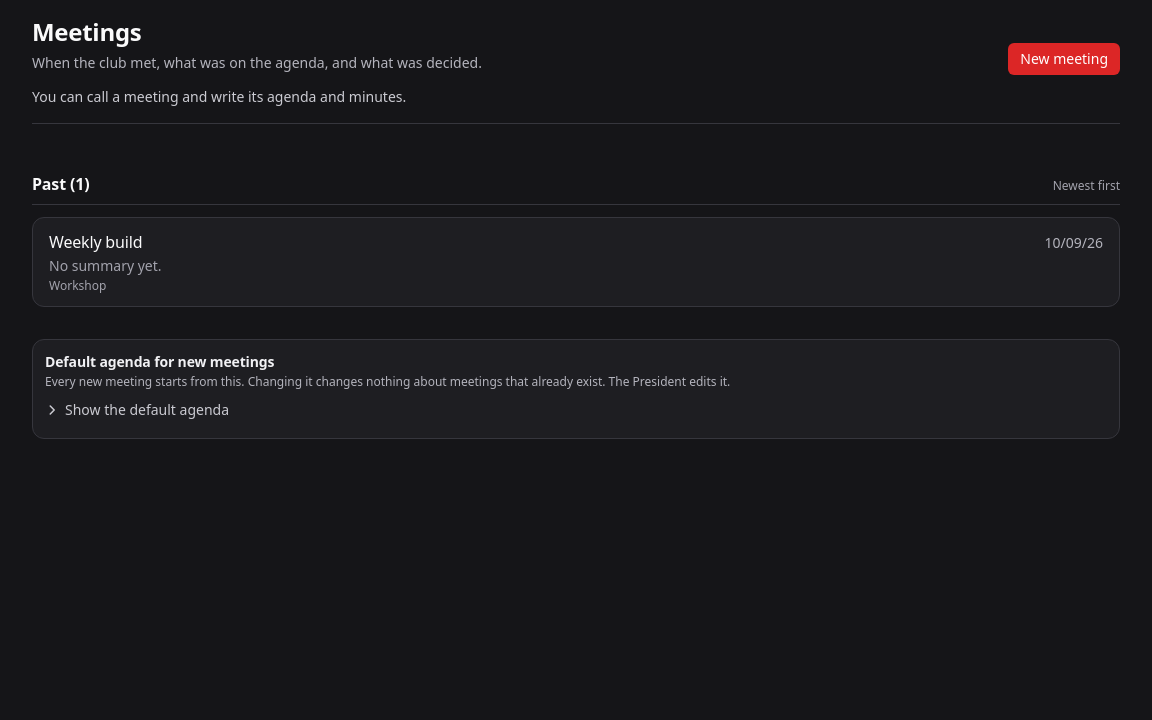
it: calling and editing a meeting › lists who did not come, and taking someone off the list saves them as having come
Later steps or results of the test are not shown.
Click the button "Weekly build" at (96, 242), box x1=49 y1=230 x2=142 y2=254
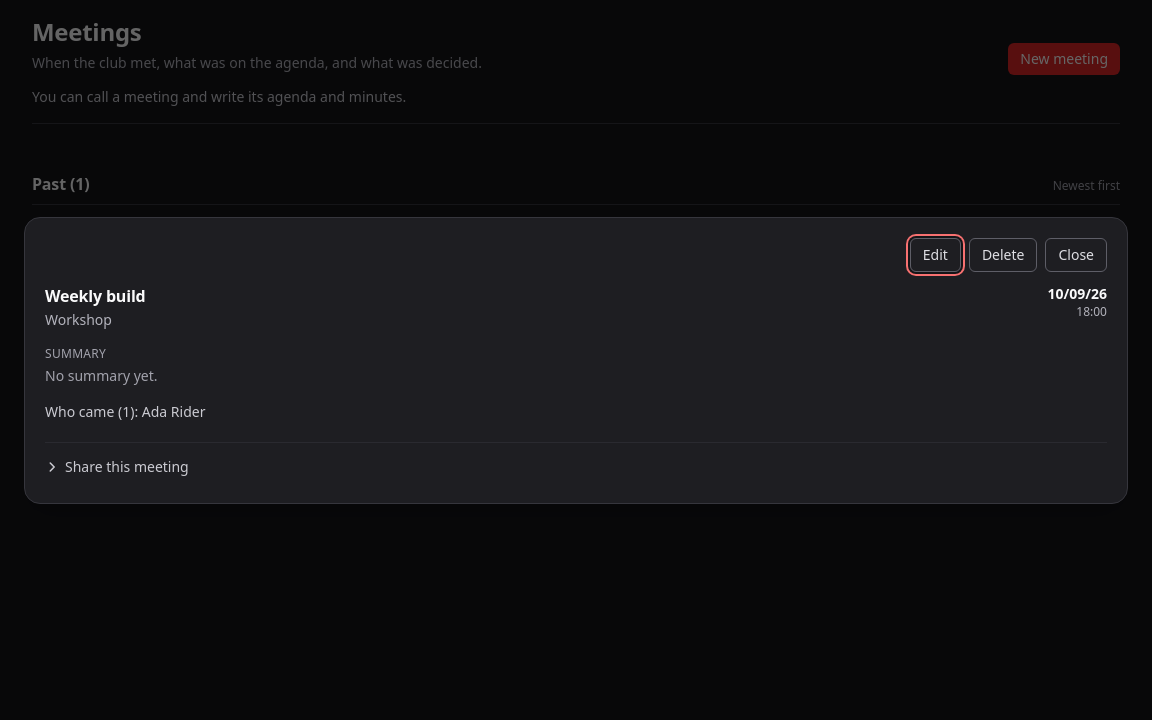
Click the button with aria-label "Edit Weekly build" at (935, 254), box x1=910 y1=238 x2=961 y2=272
(page scrolled)
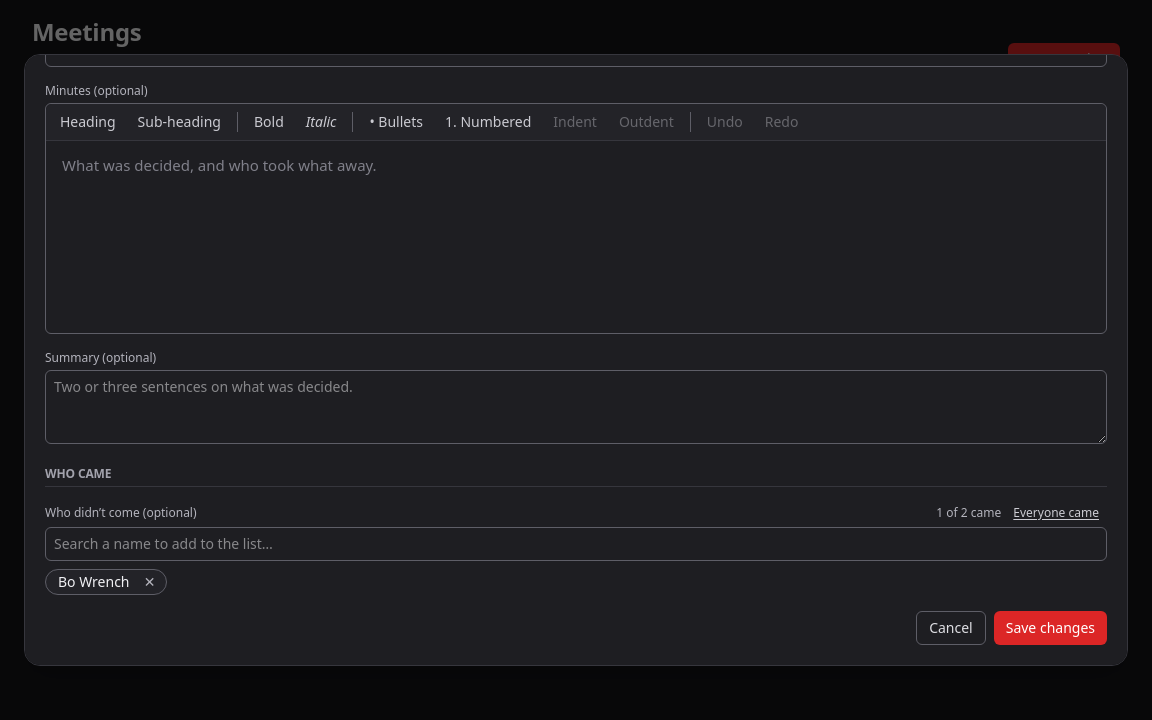
Check: the text "Bo Wrench" is shown, box x1=58 y1=572 x2=130 y2=592
Check: the text with test id "attendance-count" reads "1 of 2 came", box x1=936 y1=504 x2=1001 y2=521
Click the button named "Remove Bo Wrench from the list" at (150, 582), box x1=134 y1=572 x2=166 y2=592
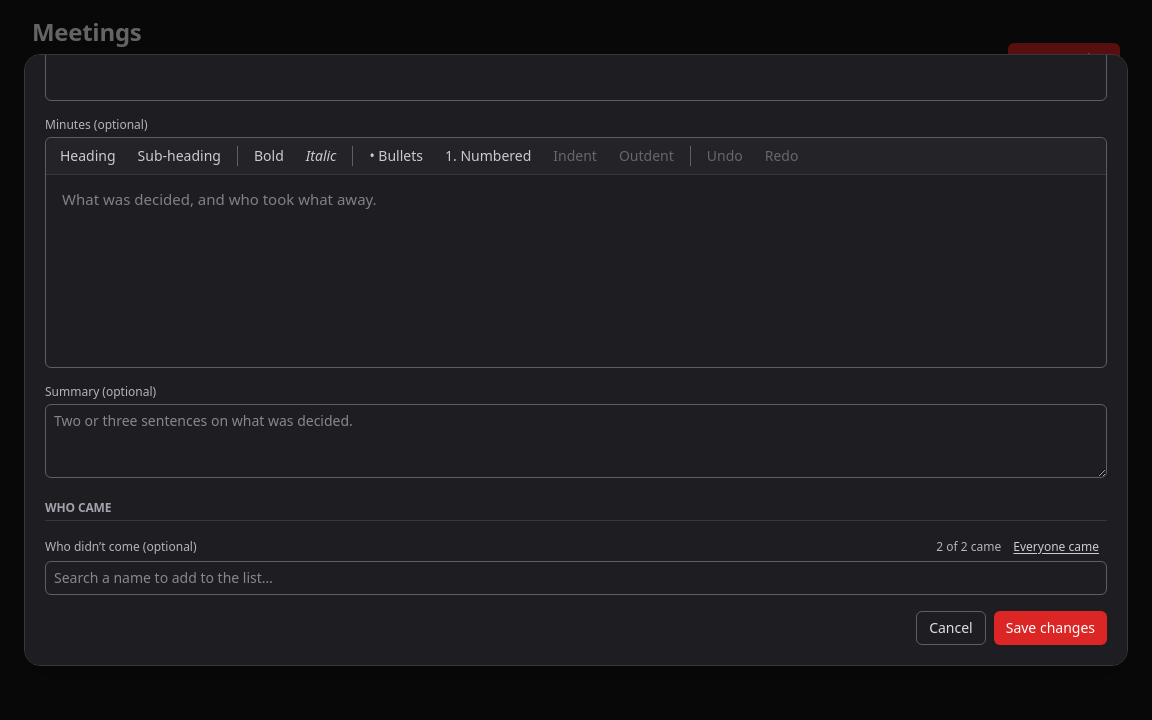
Check: the text with test id "attendance-count" reads "2 of 2 came", box x1=936 y1=538 x2=1001 y2=555
Check: the list with test id "absent-list" is gone
